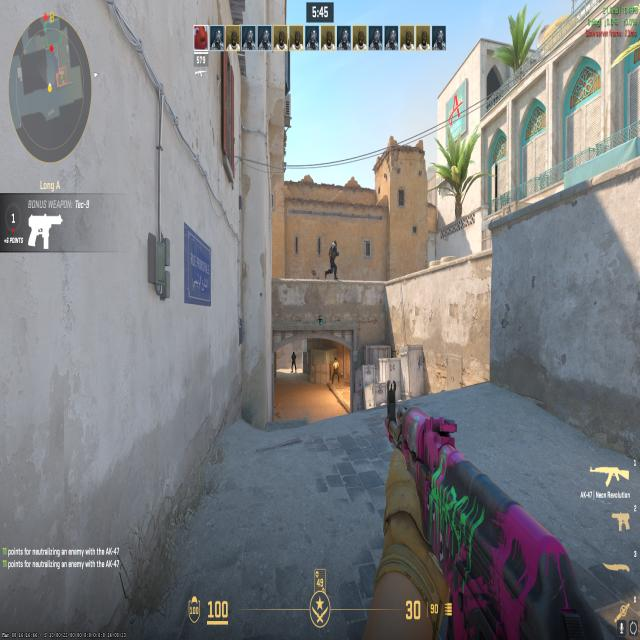ct: (323, 236, 341, 284), (290, 348, 297, 375)
t: (331, 351, 342, 387)
